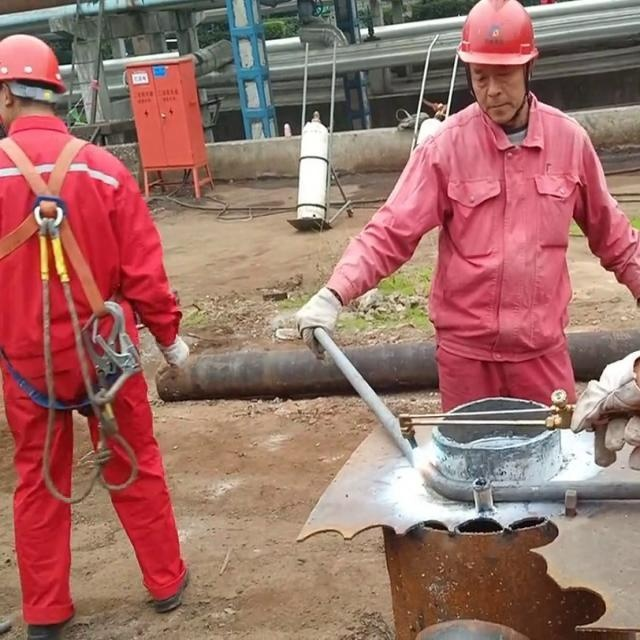Arnes_seguridad: (0, 108, 131, 370)
